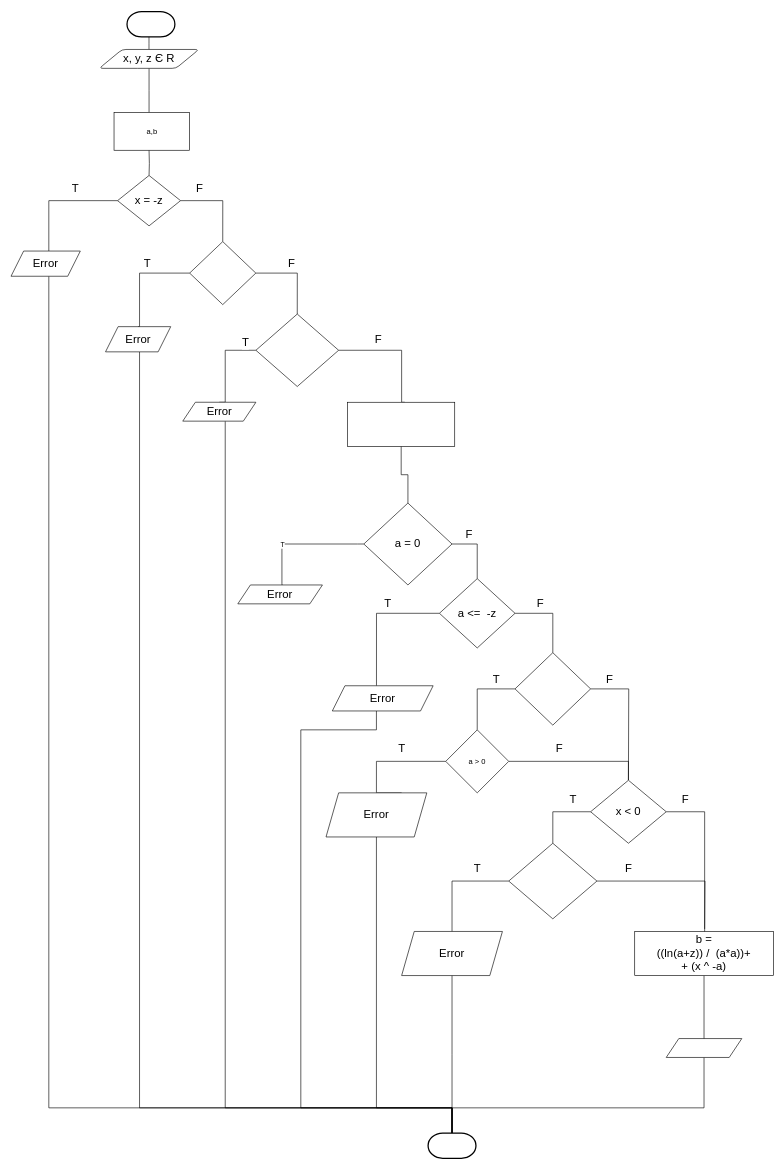
This 784x1169 diagram has some shape labels left out. Each missing label, with the centre of its shape:
"(1 / a) % 2 = 0" goes at point (552, 881).
"a = ((lg(|x +z|)) / (1 + (ln|y-x|)/2)) + (2 * y)" goes at point (401, 424).
"a, b" goes at point (704, 1047).
"end" goes at point (451, 1145).
"ln(|y-x|) = -2" goes at point (297, 350).
"start" goes at point (150, 24).
"x = 0" goes at point (552, 688).
"x = y" goes at point (222, 273).
